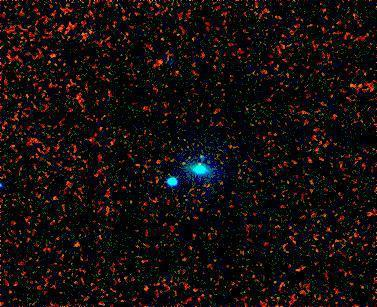star: (146, 48, 176, 78)
